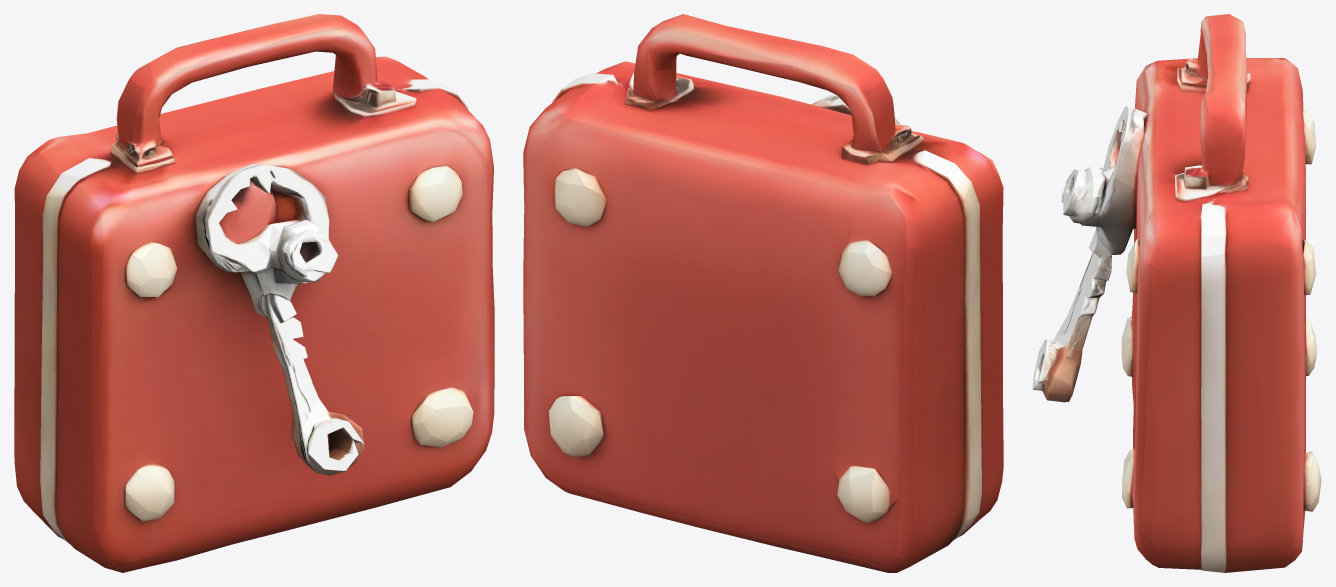
3 renders of one model, left to right at view 1: azimuth 30°, elevation 25°; view 2: azimuth 150°, elevation 25°; view 3: azimuth 270°, elevation 25°, orthographic. The views are drawn at different scales.
Parts seen in each view (by area): view 1: model; view 2: model; view 3: model.
Part boxes in pixels (x1=…): model: x1=14, y1=14, x2=494, y2=572; model: x1=523, y1=14, x2=1003, y2=572; model: x1=1032, y1=14, x2=1321, y2=572.
Size of the model in its own units: 1.76 by 1.89 by 1.11.
1 material, 1 textured.
